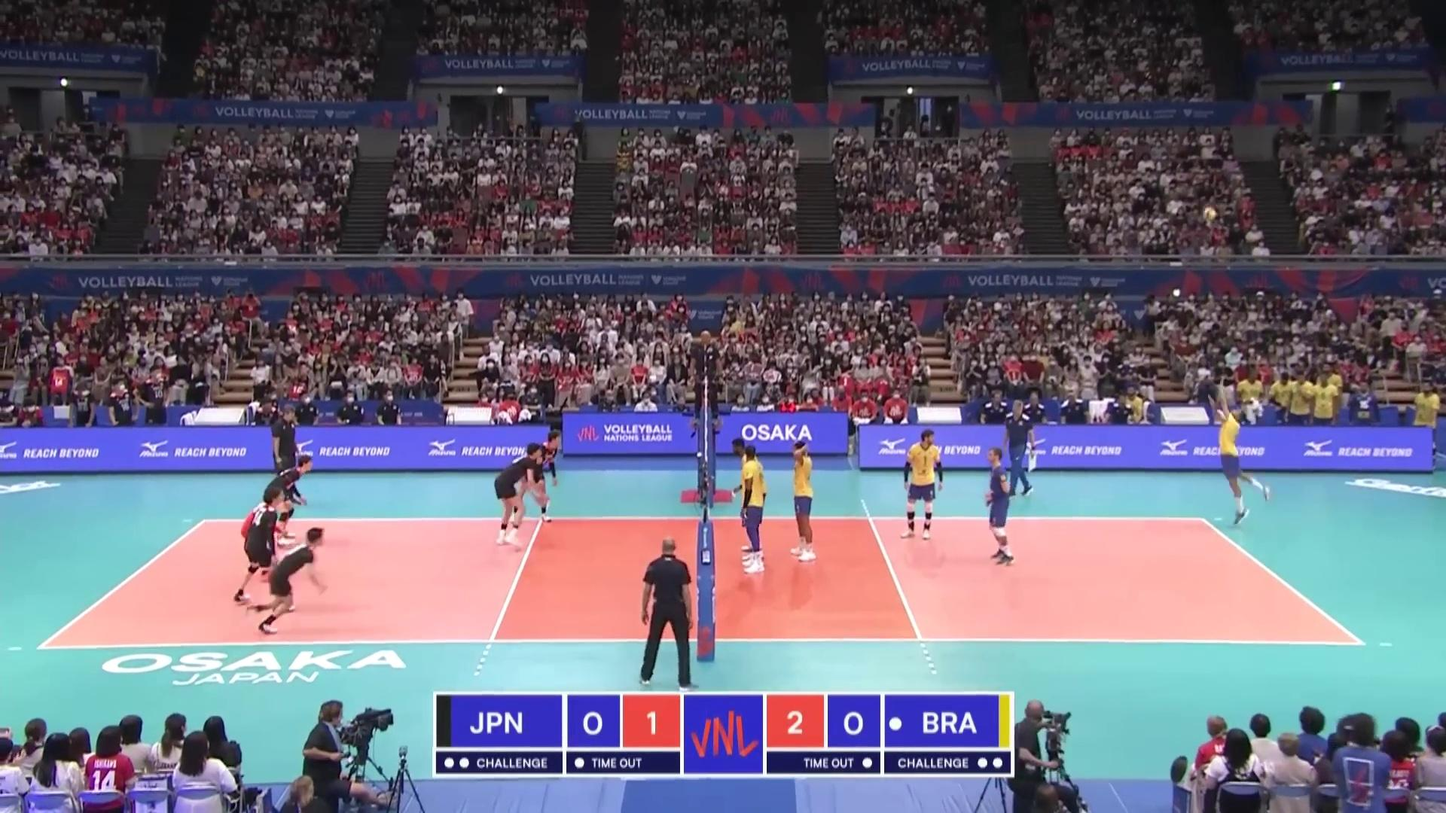player: (1207, 392, 1277, 524), (254, 528, 326, 635), (236, 489, 284, 610), (495, 442, 543, 549), (899, 429, 943, 541), (511, 429, 562, 522), (981, 448, 1019, 565), (732, 440, 767, 562), (240, 492, 286, 580), (265, 456, 311, 539), (790, 439, 817, 564), (741, 445, 763, 576)
refree: (638, 541, 696, 689), (688, 330, 722, 431)
